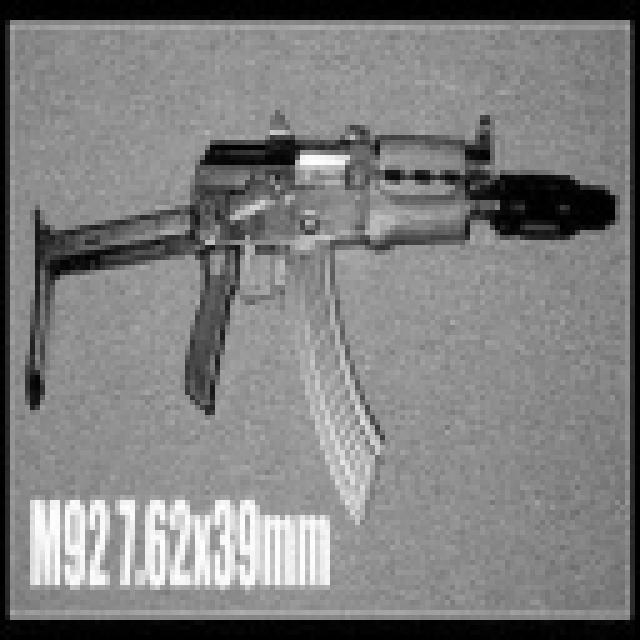Rifle: (0, 0, 628, 565)
